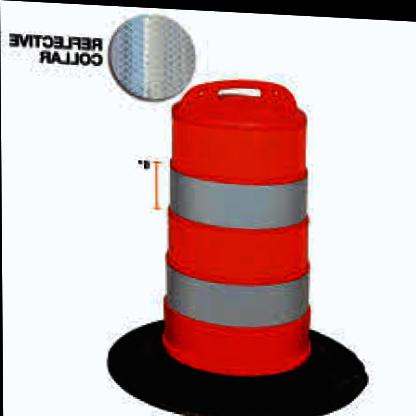obstacle: (158, 73, 325, 376)
